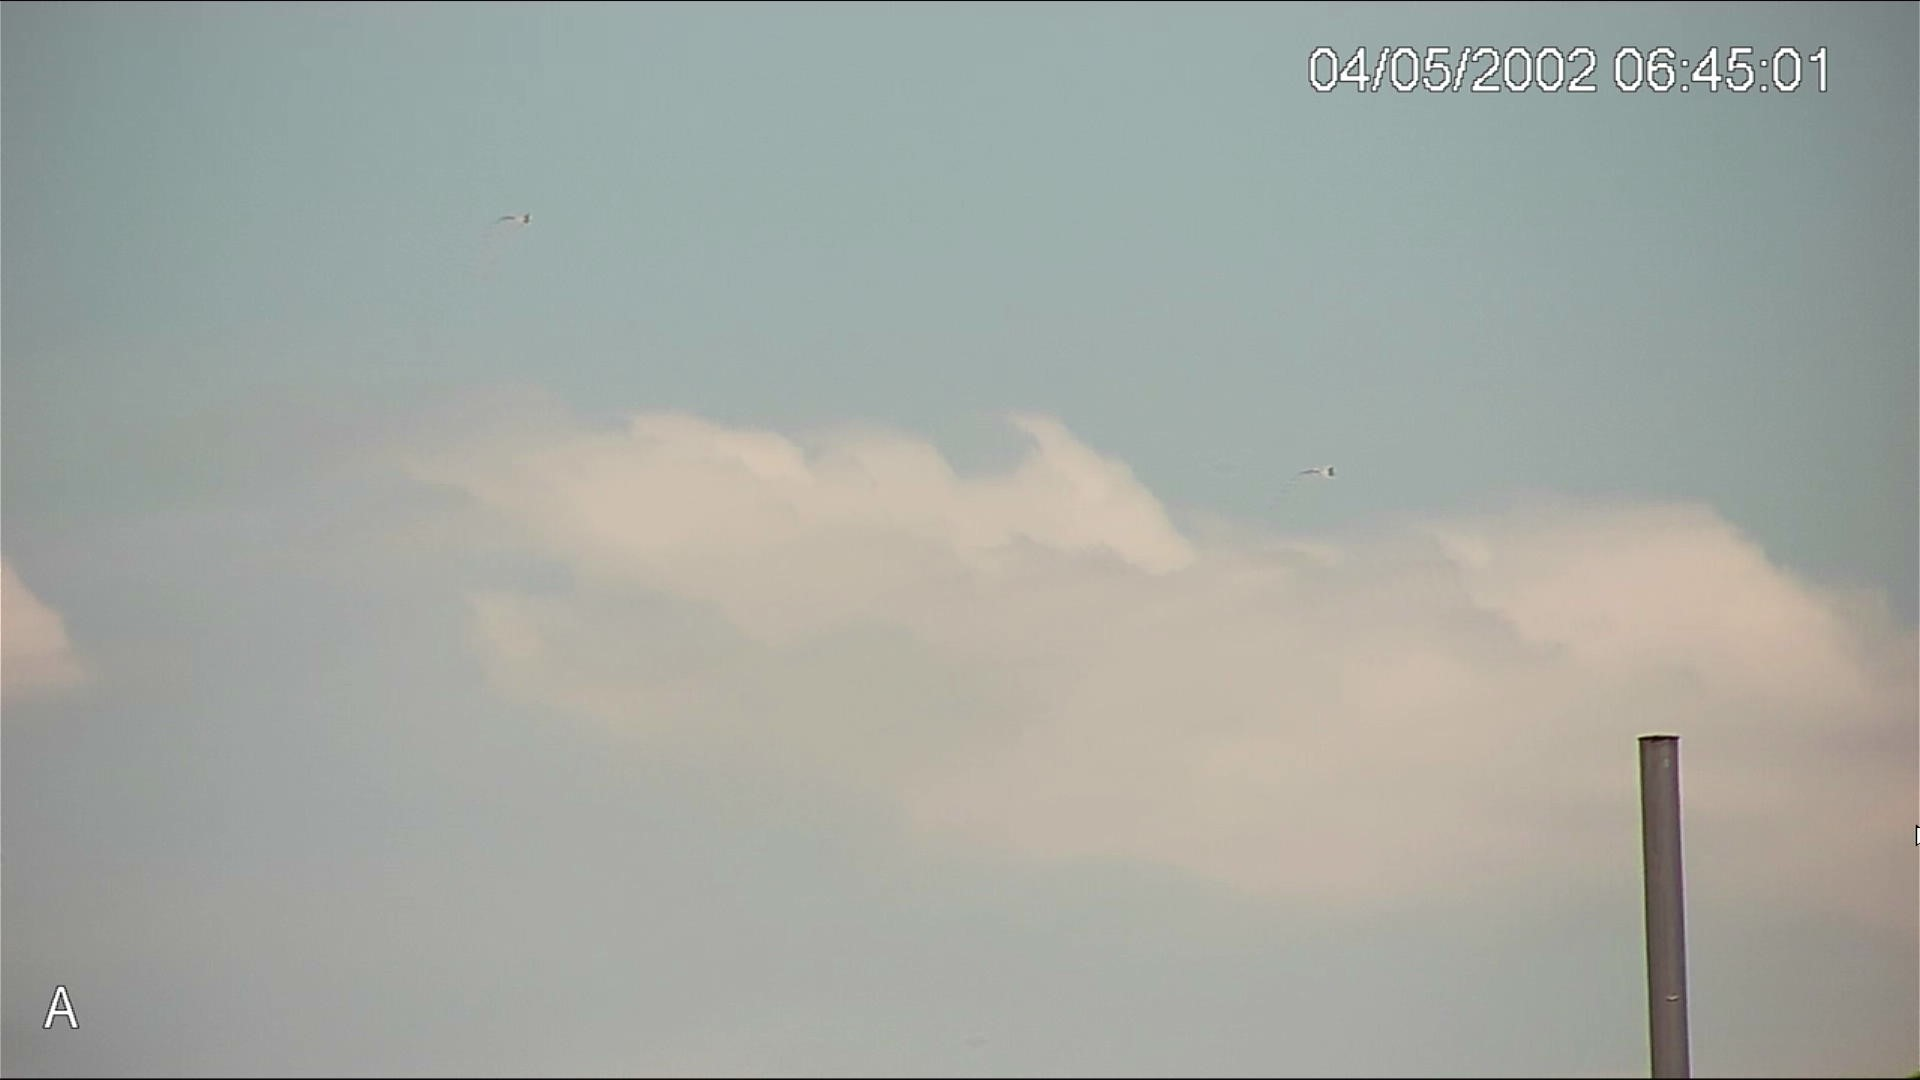SU_30: (1303, 462, 1335, 487), (497, 208, 530, 227)
